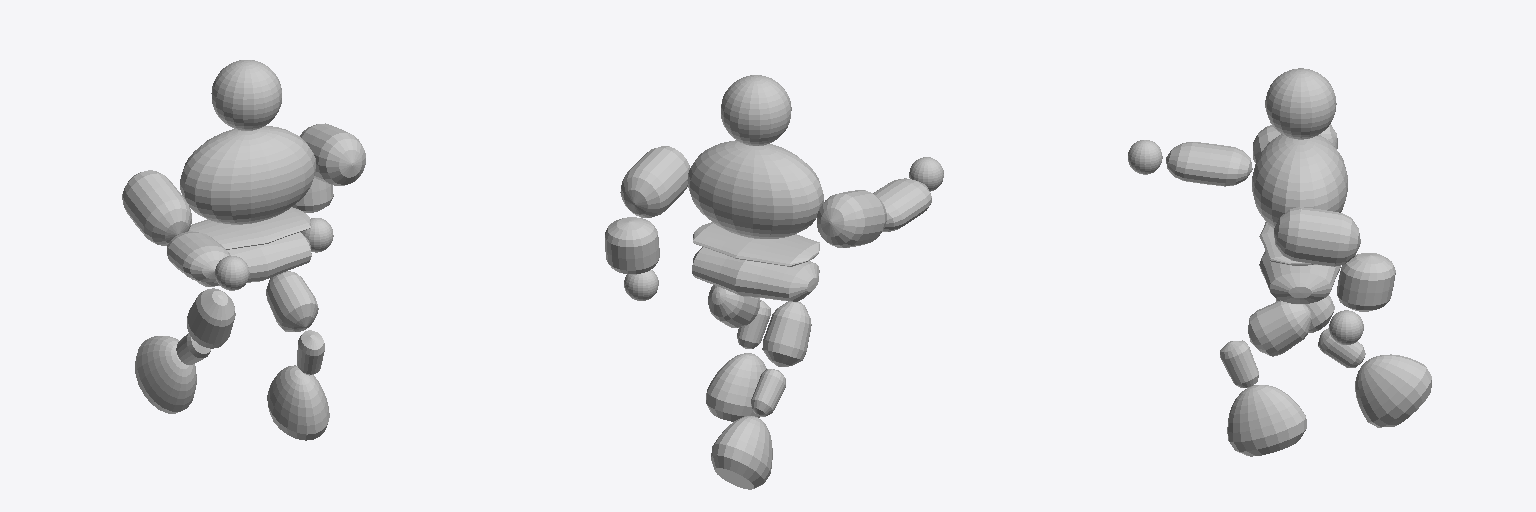
Rendered from PTwo3.obj.
3 renders of one model, left to right at view 1: azimuth 30°, elevation 25°; view 2: azimuth 150°, elevation 25°; view 3: azimuth 270°, elevation 25°, orthographic.
Bounding box in the file's own units: 4.05 × 6.12 × 4.57.